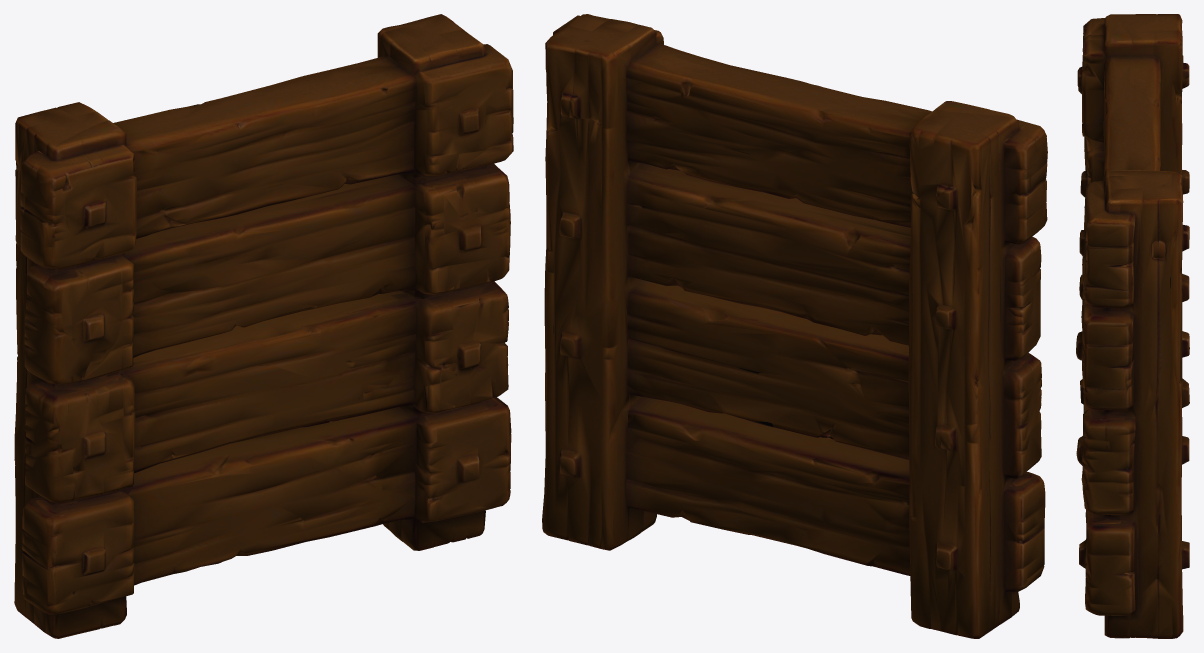
Rendered from tablones_de_madera.glb.
3 renders of one model, left to right at view 1: azimuth 30°, elevation 25°; view 2: azimuth 150°, elevation 25°; view 3: azimuth 270°, elevation 25°, orthographic. The views are drawn at different scales.
Visible parts, largest first — view 1: tablones_de_madera; view 2: tablones_de_madera; view 3: tablones_de_madera.
Boxes of the visible parts, box(x1,y1,x2,y2) form: tablones_de_madera: box(14, 14, 513, 638); tablones_de_madera: box(542, 14, 1047, 638); tablones_de_madera: box(1076, 14, 1189, 638).
Size of what is drawn, in the model's own units: 2.01 by 2 by 0.468.
1 material, 1 textured.
